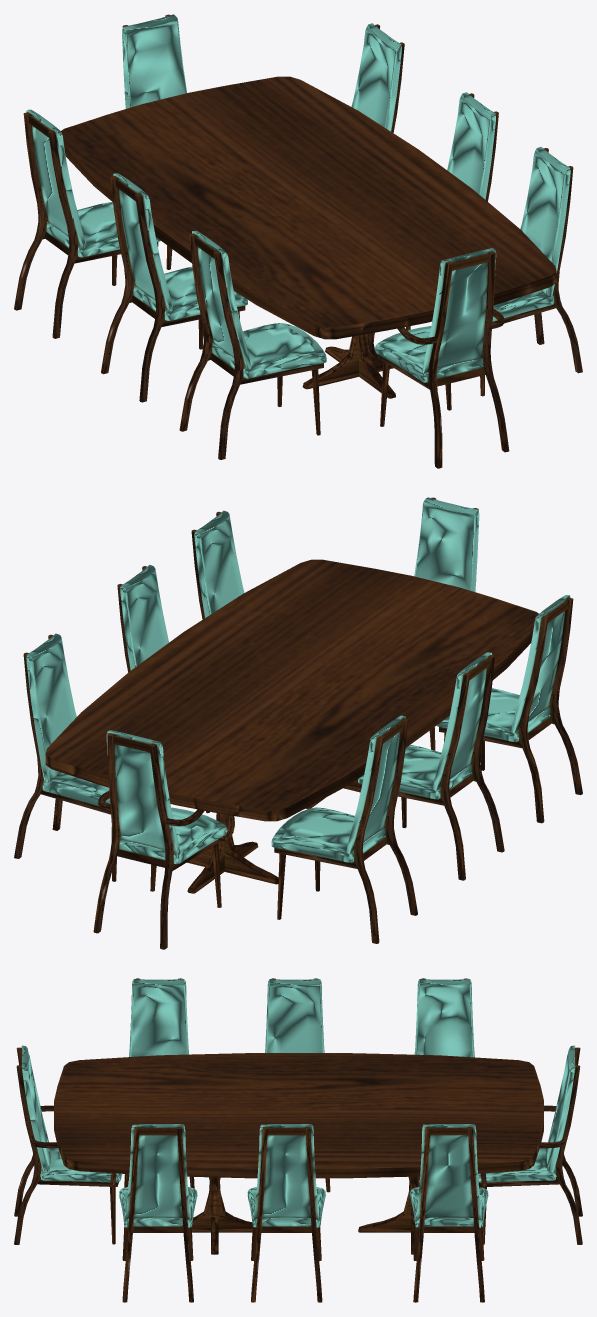
Rendered from mid-century-dining-room---game-ready-eca1dc.glb.
The picture shows the model from 3 angles, top to bottom: view 1: azimuth 30°, elevation 25°; view 2: azimuth 150°, elevation 25°; view 3: azimuth 270°, elevation 25°; orthographic projection. The views are drawn at different scales.
Parts seen in each view (by area): view 1: PropMesh; view 2: PropMesh; view 3: PropMesh.
Boxes of the visible parts, box(x1,y1,x2,y2) form: PropMesh: box(14, 14, 582, 468); PropMesh: box(14, 497, 582, 949); PropMesh: box(14, 978, 582, 1302).
Bounding box in the file's own units: 1.79 × 0.95 × 2.82.
Materials: 1 (1 with a texture image).
